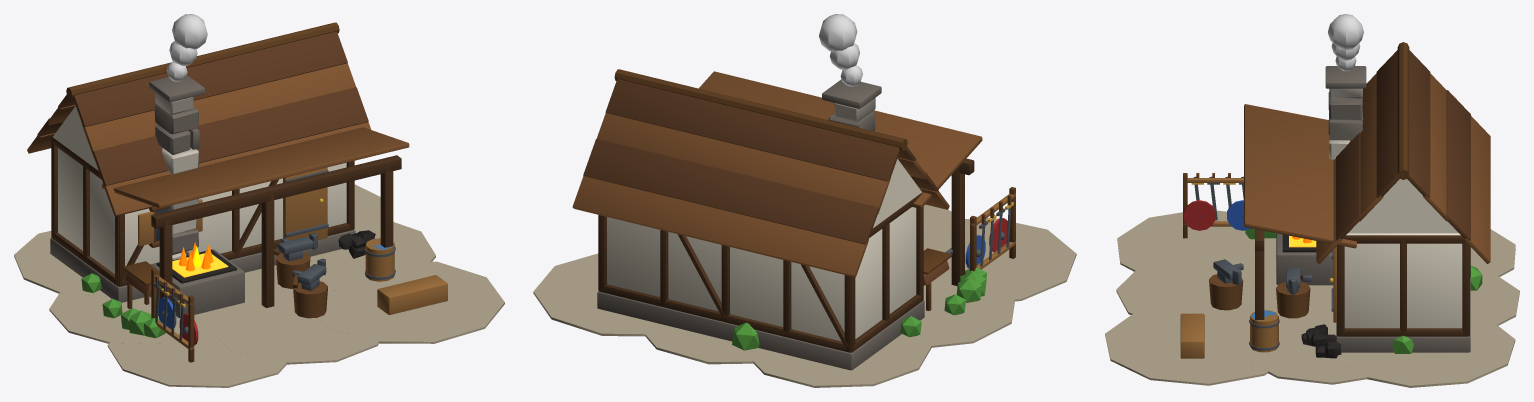
Rendered from kuznia_poz08.glb.
3 renders of one model, left to right at view 1: azimuth 30°, elevation 25°; view 2: azimuth 150°, elevation 25°; view 3: azimuth 270°, elevation 25°, orthographic. The views are drawn at different scales.
Visible parts, largest first — view 1: kuznia_poz08; view 2: kuznia_poz08; view 3: kuznia_poz08.
Part boxes in pixels (x1,y1,x2,y2): kuznia_poz08: (14,14,504,387); kuznia_poz08: (533,14,1076,387); kuznia_poz08: (1105,14,1519,387).
Bounding box in the file's own units: 8.78 × 6.16 × 8.65.
